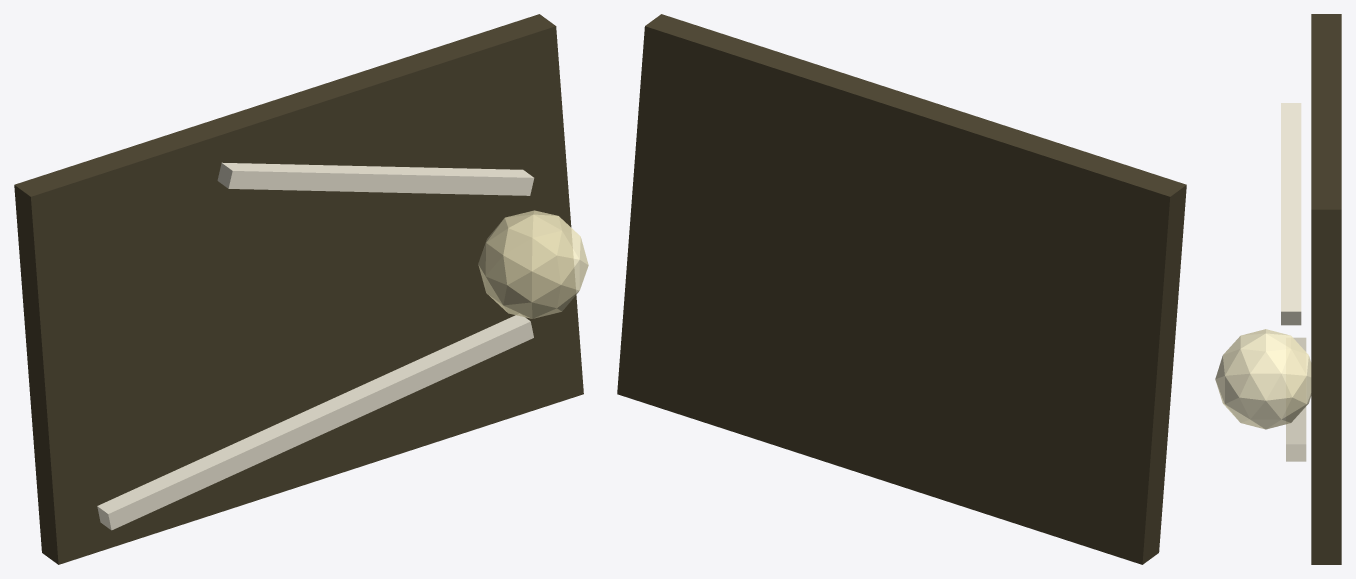
Rendered from 02_world_prop_polish.glb.
3 views of the same model, side by side, from view 1: azimuth 30°, elevation 25°; view 2: azimuth 150°, elevation 25°; view 3: azimuth 270°, elevation 25° (orthographic). The views are drawn at different scales.
Visible parts, largest first — view 1: object_overlay_plate, edge_wear_a, glow_socket, edge_wear_b; view 2: object_overlay_plate; view 3: object_overlay_plate, glow_socket, edge_wear_b, edge_wear_a.
Boxes of the visible parts, bbox=[...] form: object_overlay_plate: bbox=[14, 14, 583, 564]; edge_wear_a: bbox=[97, 314, 533, 530]; glow_socket: bbox=[478, 210, 588, 318]; edge_wear_b: bbox=[217, 162, 534, 195]; object_overlay_plate: bbox=[617, 14, 1186, 564]; object_overlay_plate: bbox=[1311, 14, 1341, 564]; glow_socket: bbox=[1215, 329, 1311, 429]; edge_wear_b: bbox=[1281, 103, 1301, 325]; edge_wear_a: bbox=[1286, 337, 1306, 461].
Size of the model in its own units: 1.15 by 0.8327 by 0.25.
